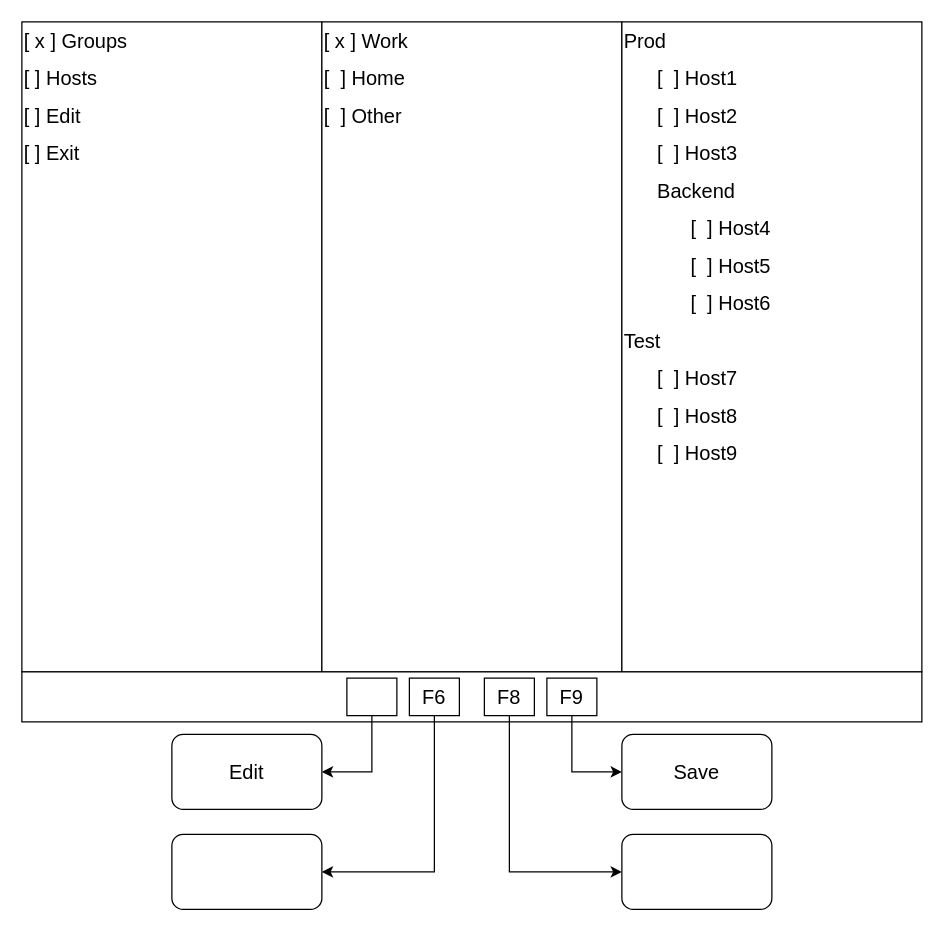
Some shapes in this 944 by 931 pixel diagram are drawn without their labels. Here are the shapes that lost their labels. From the top down, the centre of each, then its label:
At point (371, 696): "F5".
At point (246, 871): "Del".
At point (696, 871): "Dublicate".
